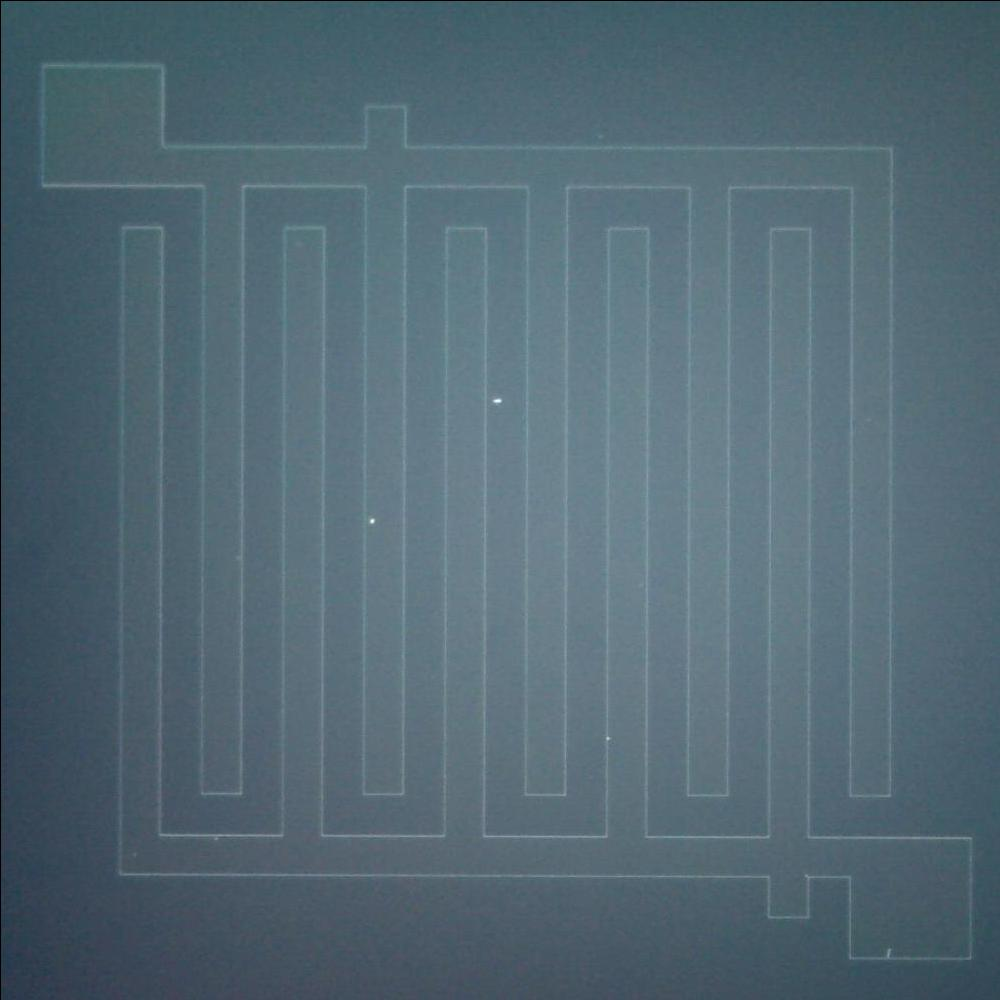budge circuit: (352, 92, 420, 164), (754, 862, 818, 928)
dot: (483, 385, 510, 413), (361, 509, 383, 533)
